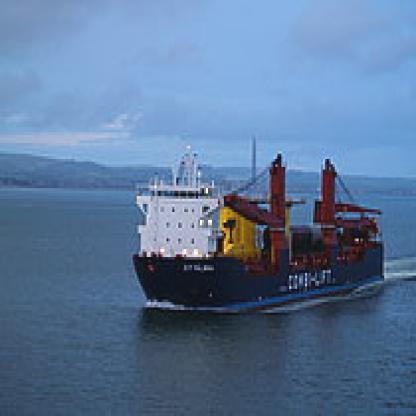Tanker: (113, 154, 402, 302)
